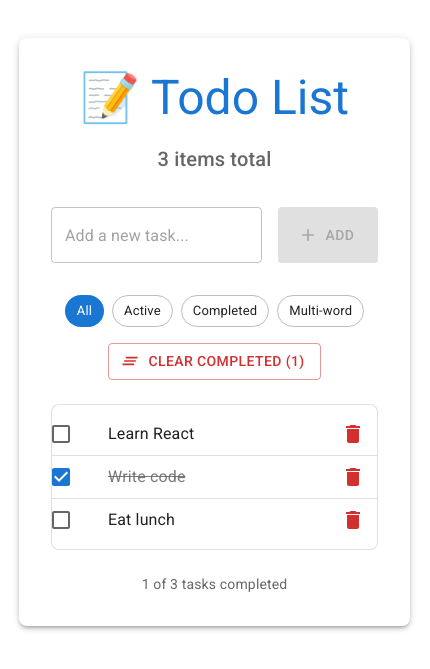
Test: ClunkyTodoList Component › Adding Tasks › adds a new task when add button is clicked
Type "New test task" into the field with placeholder "Add a new task..." at (156, 235), box [51,207,262,263]
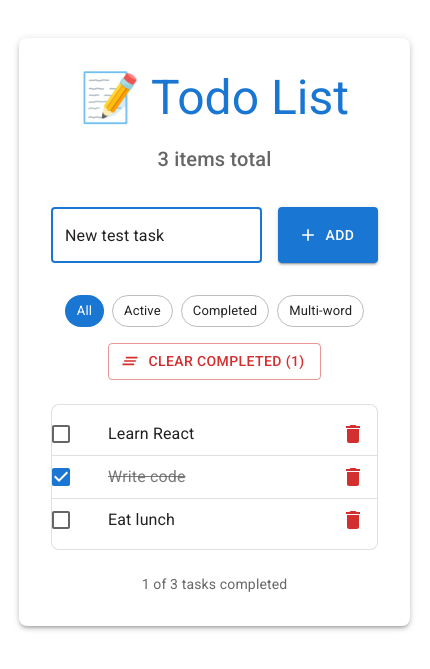
Click the button "Add" at (328, 235), box [278,207,378,263]
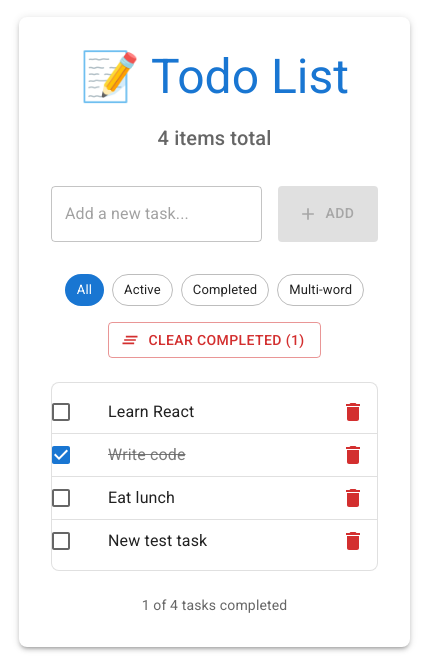
Result: the text "New test task" is shown at [108,531,207,550]
Result: the heading "4 items total" is shown at [158,126,271,150]
